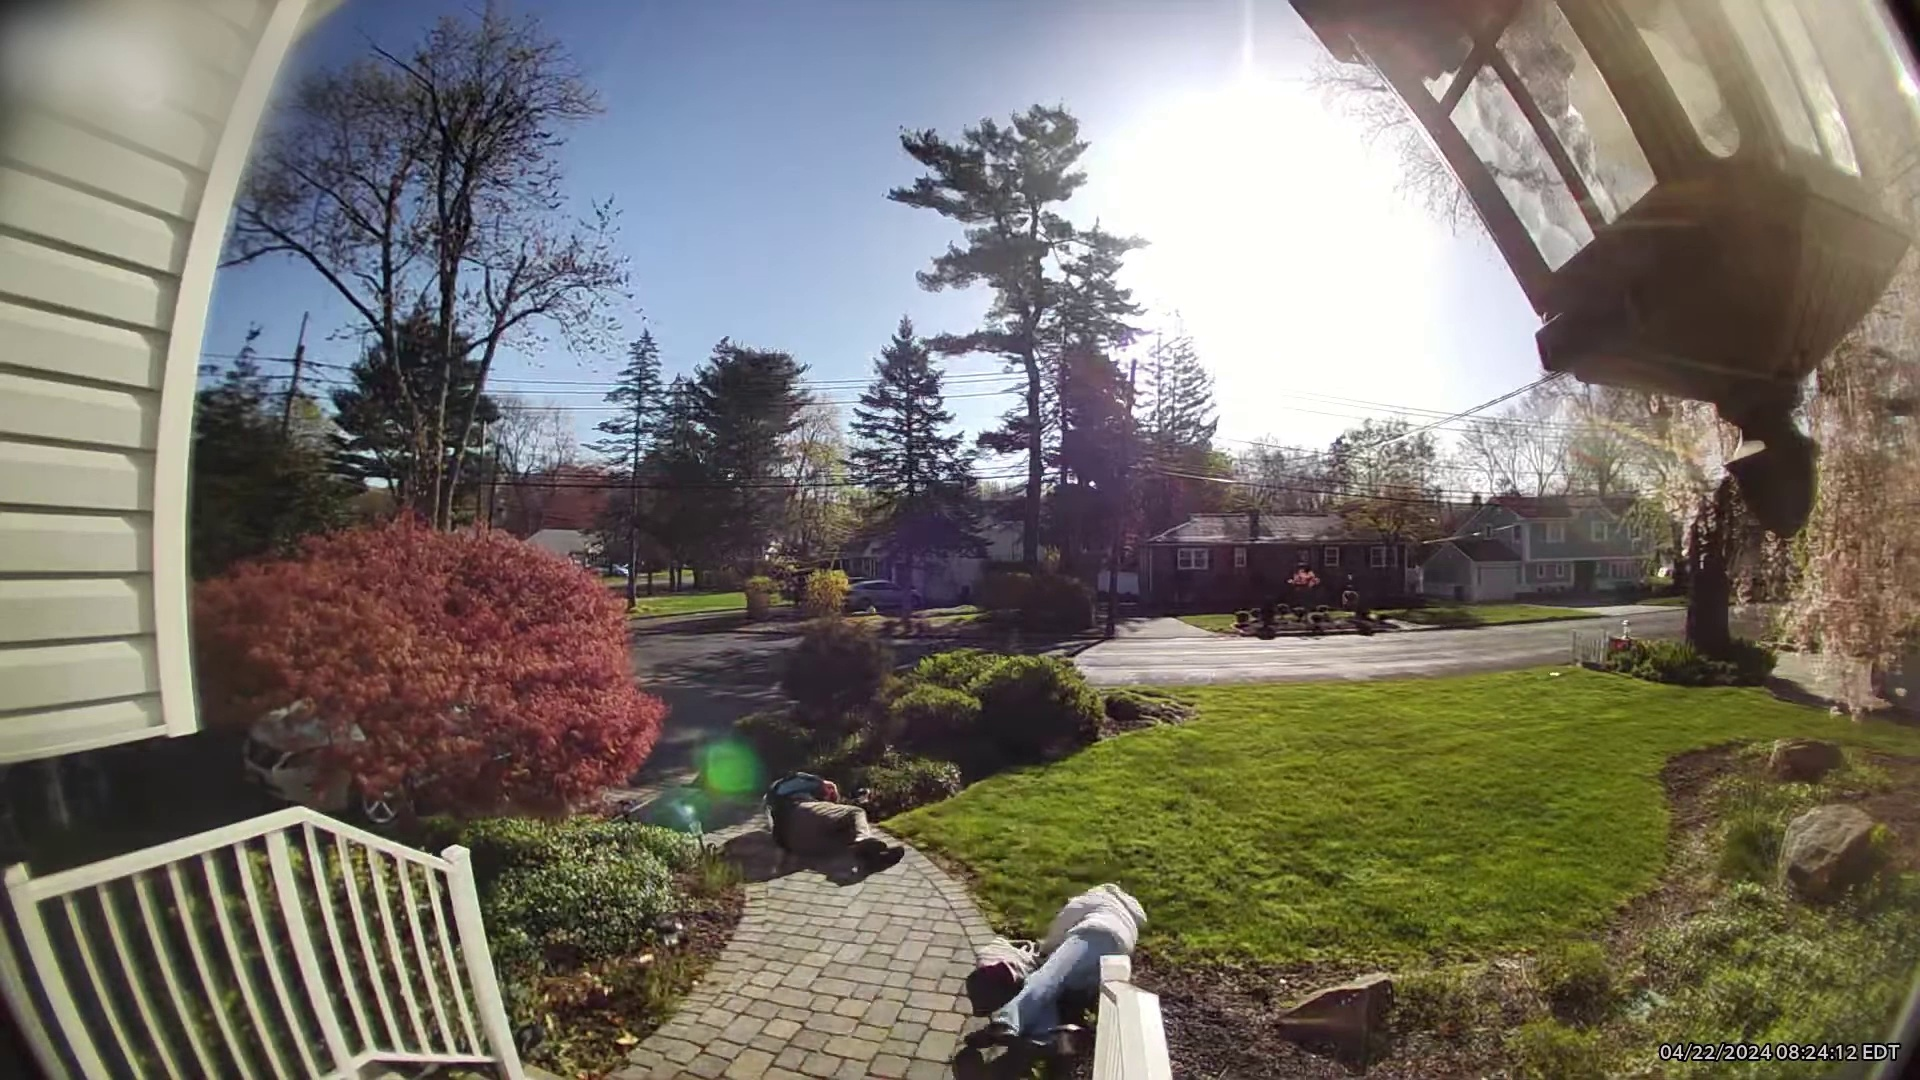fall: (719, 753, 972, 947), (935, 907, 1193, 1060)
